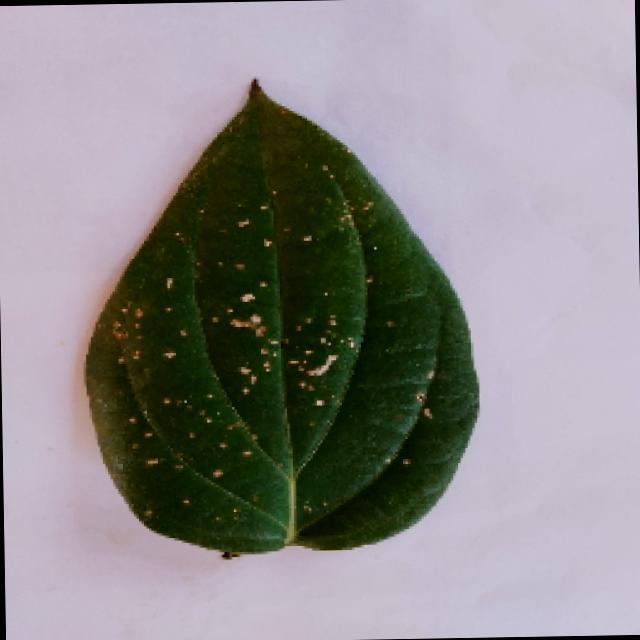pollu-disease: (66, 82, 489, 567)
